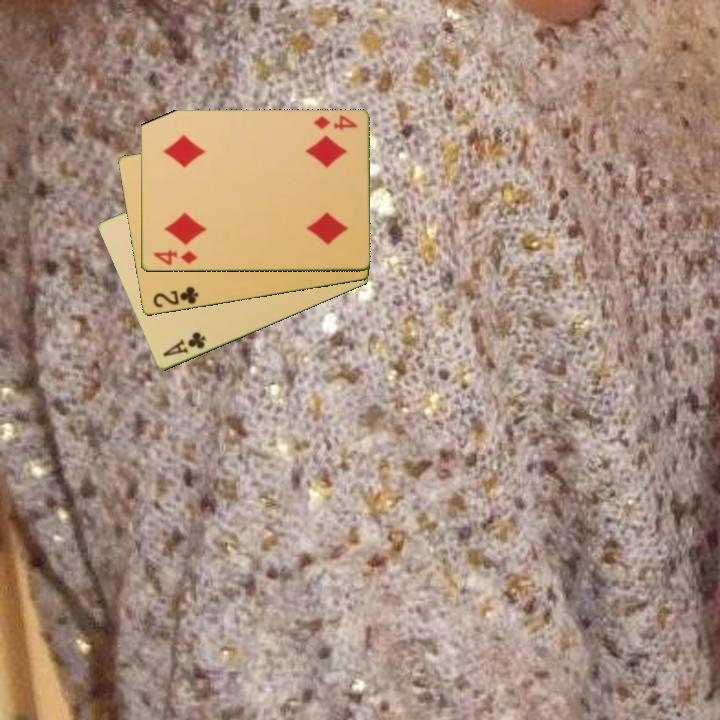2c: (149, 283, 201, 311)
4d: (310, 111, 361, 134), (149, 246, 200, 268)
Ac: (159, 329, 209, 360)
